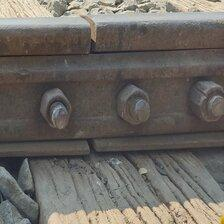railway-gap: (58, 4, 126, 63), (70, 127, 113, 163)
